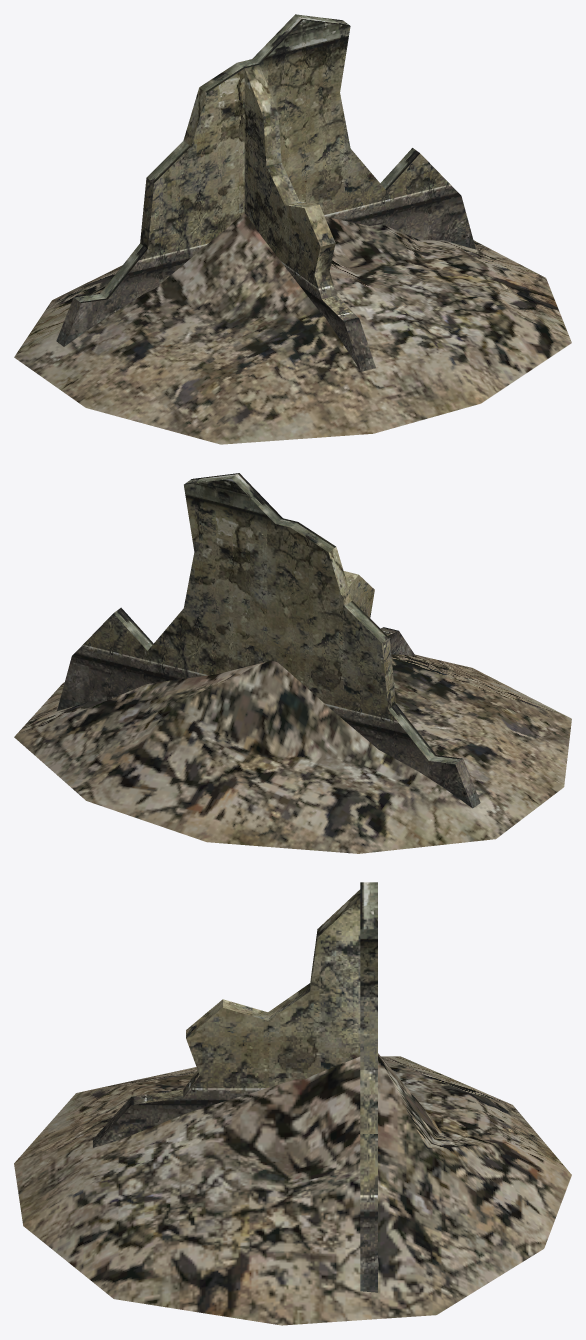
The model's file is Rbl_T1.glb.
3 views of the same model, one above another, from view 1: azimuth 30°, elevation 25°; view 2: azimuth 150°, elevation 25°; view 3: azimuth 270°, elevation 25° (orthographic). The views are drawn at different scales.
Parts seen in each view (by area): view 1: _Rbl_T1; view 2: _Rbl_T1; view 3: _Rbl_T1.
Boxes of the visible parts, box(x1,y1,x2,y2) form: _Rbl_T1: box(14, 14, 571, 444); _Rbl_T1: box(14, 473, 571, 853); _Rbl_T1: box(14, 882, 571, 1325).
Size of the model in its own units: 8.93 by 5.06 by 7.82.
2 materials, 2 textured.
